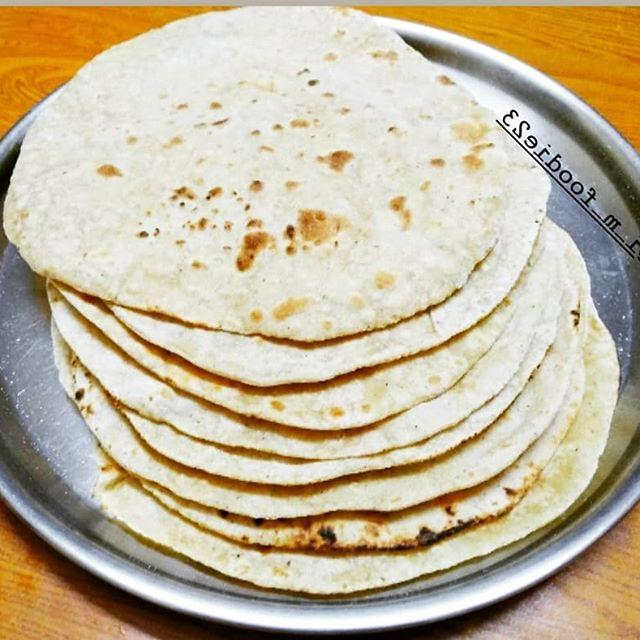Roti: (71, 212, 595, 570), (0, 22, 488, 300)
